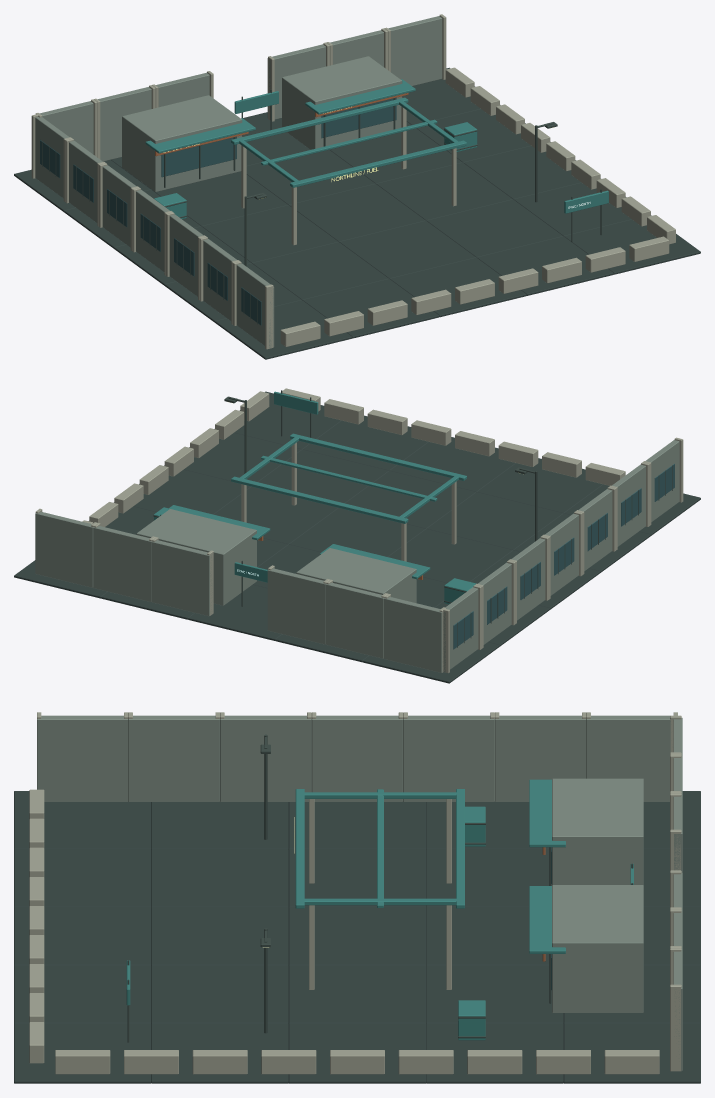
Rendered from chapter_fuel.glb.
3 views of the same model, one above another, from view 1: azimuth 30°, elevation 25°; view 2: azimuth 150°, elevation 25°; view 3: azimuth 270°, elevation 25° (orthographic). The views are drawn at different scales.
Parts seen in each view (by area): view 1: chapter_fuel; view 2: chapter_fuel; view 3: chapter_fuel.
Boxes of the visible parts, x1,y1,x2,y2 form: chapter_fuel: (14, 14, 700, 359); chapter_fuel: (14, 388, 700, 683); chapter_fuel: (14, 712, 700, 1083).
Bounding box in the file's own units: 30 × 5.14 × 30.
